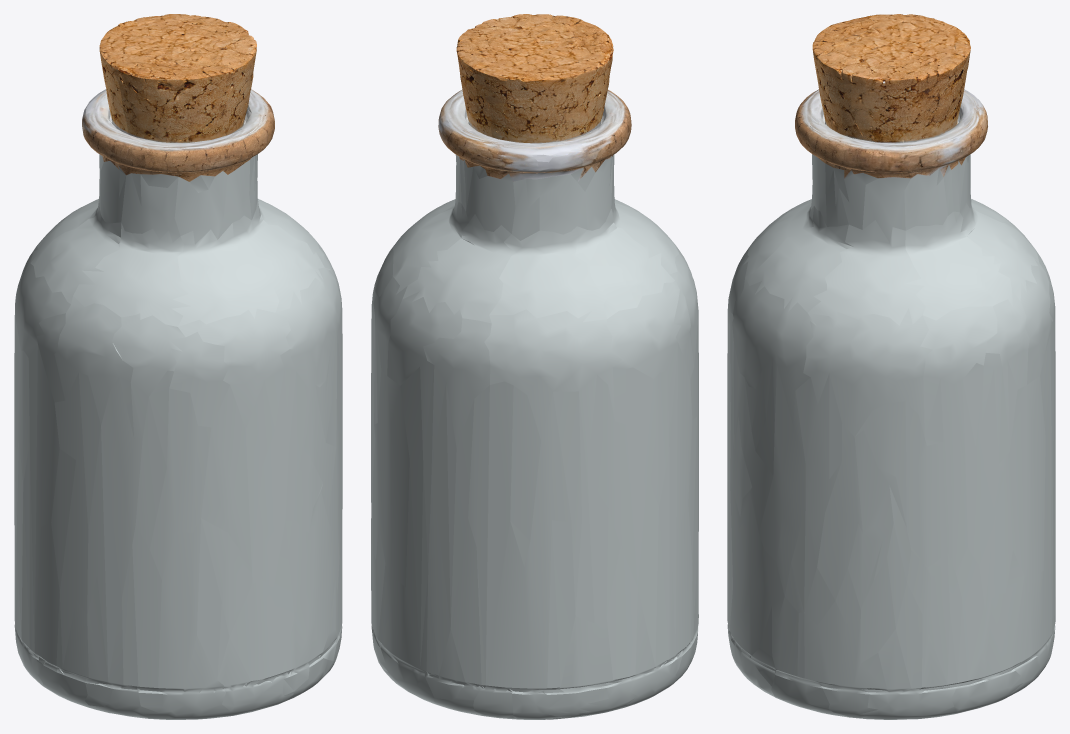
File: w51bottle.glb
The picture shows the model from 3 angles, left to right: view 1: azimuth 30°, elevation 25°; view 2: azimuth 150°, elevation 25°; view 3: azimuth 270°, elevation 25°; orthographic projection.
Visible parts, largest first — view 1: output_unwrapped; view 2: output_unwrapped; view 3: output_unwrapped.
Boxes of the visible parts, x1,y1,x2,y2 form: output_unwrapped: (14, 14, 342, 719); output_unwrapped: (371, 14, 698, 719); output_unwrapped: (727, 14, 1055, 719).
Bounding box in the file's own units: 0.0483 × 0.1 × 0.0483.
2 materials, 1 textured.
